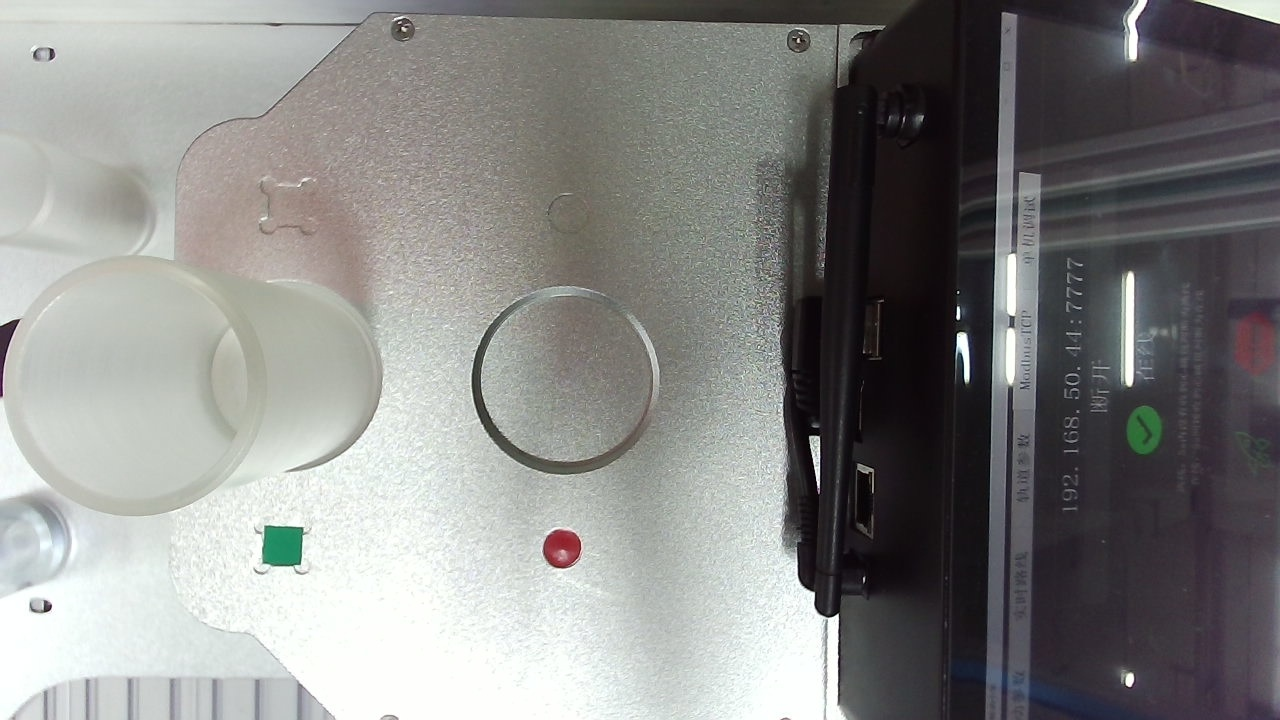XLabel: (461, 19, 529, 88)
YLabel: (885, 57, 953, 128)
none: (297, 142, 628, 479)
whiteempty: (765, 145, 1160, 516)
